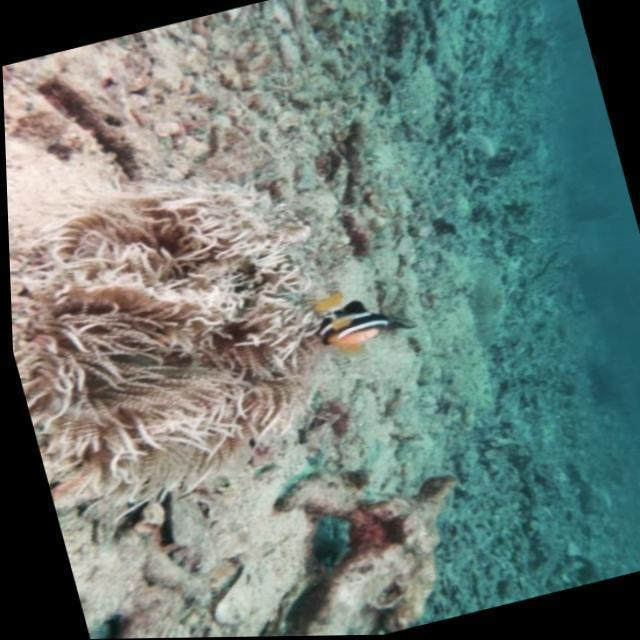Dead Coral: (227, 436, 527, 638), (78, 0, 331, 184)
